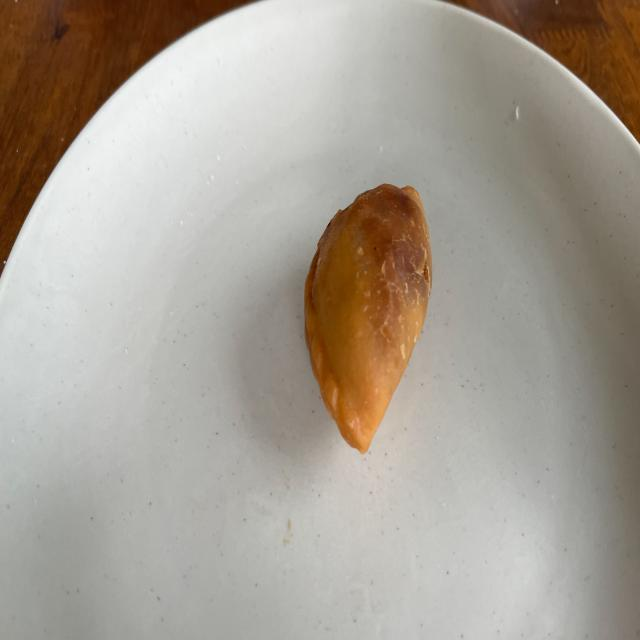karipap: (305, 184, 432, 453)
